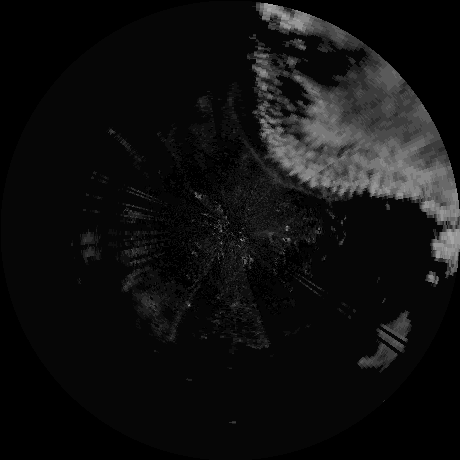frontgust: (246, 146, 321, 198)
